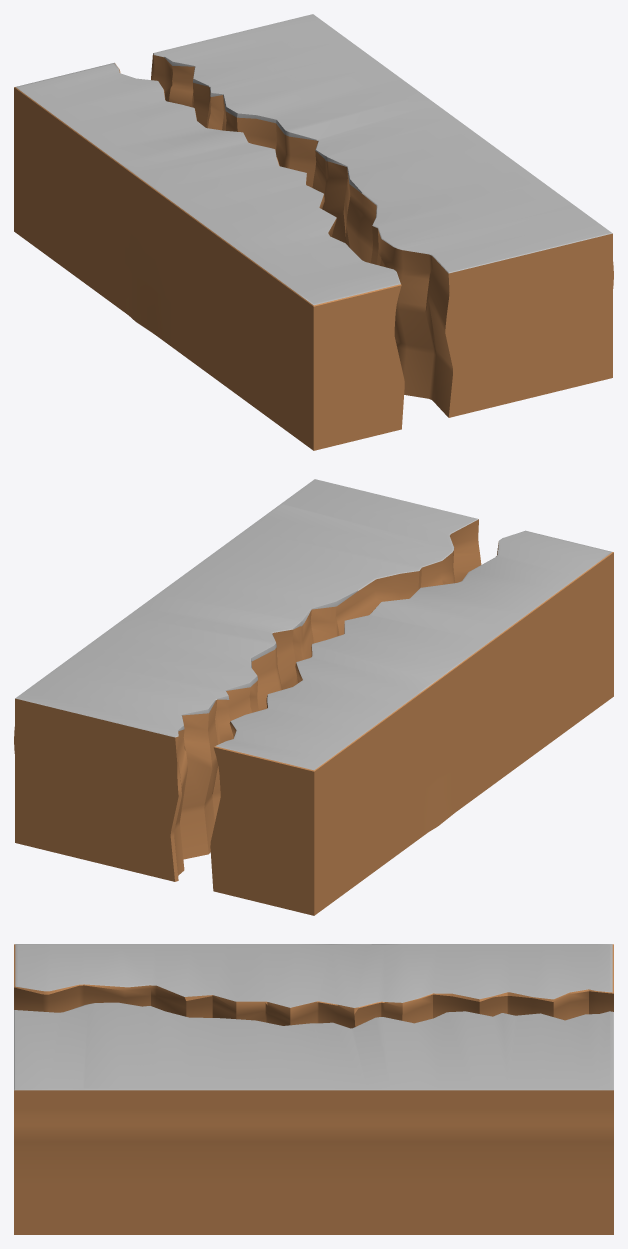
Rendered from SM_Crack_01.fbx.
3 views of the same model, one above another, from view 1: azimuth 30°, elevation 25°; view 2: azimuth 150°, elevation 25°; view 3: azimuth 270°, elevation 25° (orthographic).
Parts seen in each view (by area): view 1: Crack_left, Crack_right; view 2: Crack_left, Crack_right; view 3: Crack_right, Crack_left.
Boxes of the visible parts, x1,y1,x2,y2 form: Crack_left: [14, 62, 404, 450]; Crack_right: [151, 14, 613, 417]; Crack_left: [210, 530, 613, 915]; Crack_right: [14, 479, 481, 881]; Crack_right: [14, 1002, 613, 1234]; Crack_left: [14, 944, 613, 1028].
Size of the model in its own units: 2173 by 3743 by 1020.
